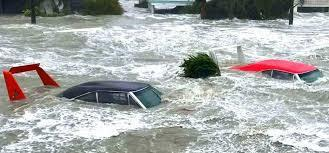water: (0, 0, 328, 151), (216, 48, 237, 66)
